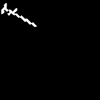double_crochet: (2, 4, 35, 26)
